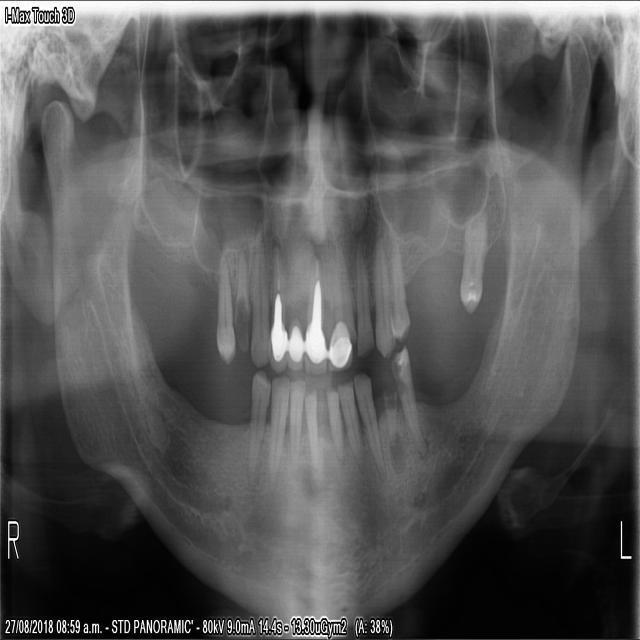LCD: (351, 368, 386, 483)
LCU: (354, 235, 374, 361)
LID: (335, 374, 362, 475), (323, 386, 342, 470)
LIU: (327, 235, 355, 378), (302, 249, 326, 376)
LPMD: (387, 345, 427, 461)
LPMU: (457, 207, 488, 316), (372, 234, 395, 359), (388, 228, 410, 343)
RCD: (267, 374, 287, 486)
RCU: (248, 239, 267, 369)
RID: (288, 375, 305, 477), (302, 386, 321, 474)
RIU: (285, 236, 306, 372), (265, 239, 285, 373)
RPMD: (245, 370, 269, 478)
RPMU: (213, 247, 234, 368), (233, 235, 249, 354)
